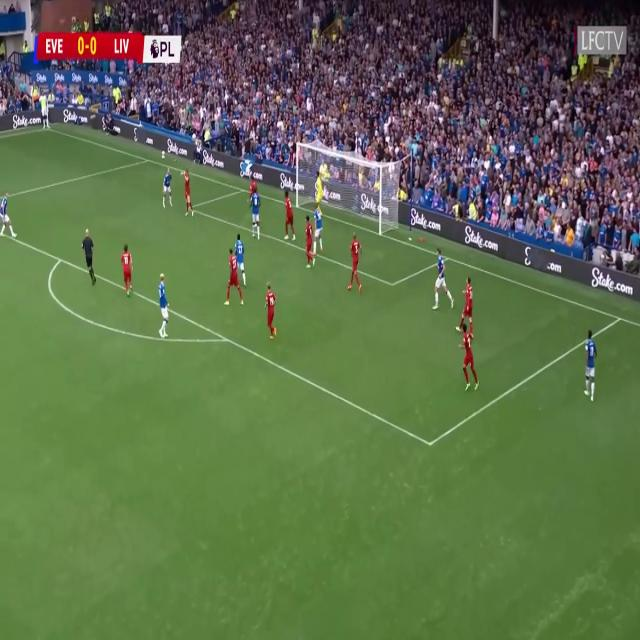ball: (180, 170, 184, 177)
team1: (459, 322, 479, 391), (456, 275, 475, 340), (224, 248, 244, 308), (348, 231, 364, 295), (120, 243, 136, 300), (181, 167, 196, 219), (264, 282, 277, 340), (303, 213, 316, 271), (282, 189, 296, 242), (248, 173, 259, 196)
team2: (432, 247, 454, 311), (156, 272, 171, 341), (0, 188, 19, 241), (584, 328, 597, 403), (234, 232, 248, 290), (249, 187, 261, 243), (312, 207, 324, 257), (161, 166, 173, 209)
